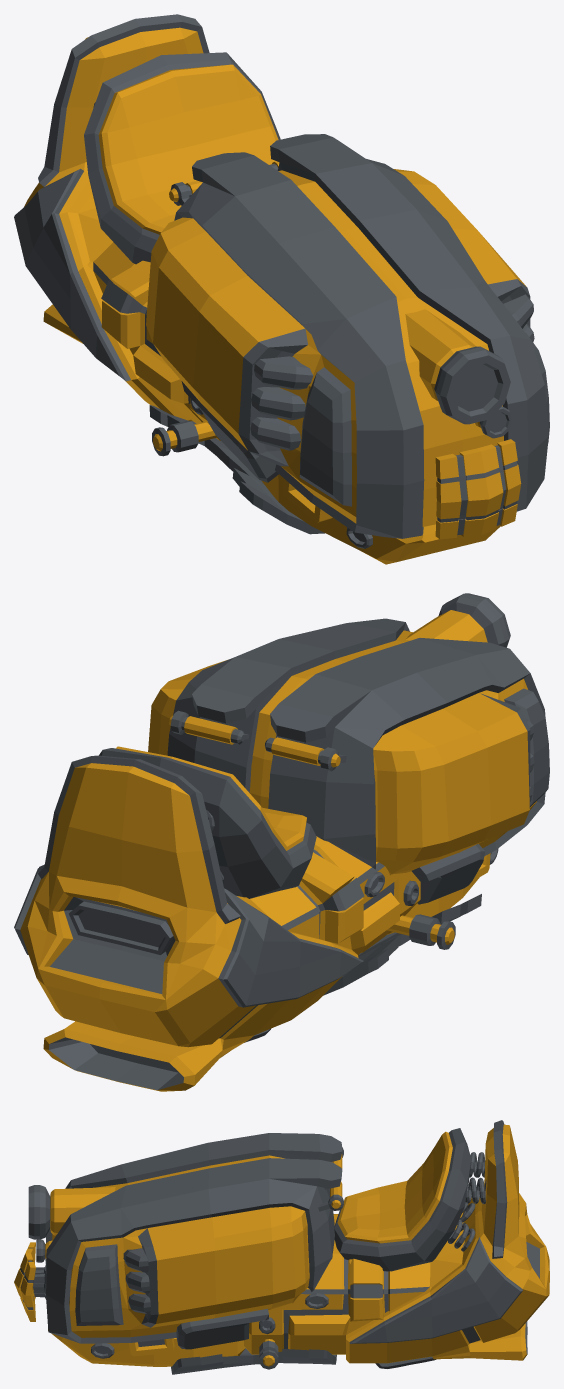
Rendered from Personal_Vehicle_01_Yellow.fbx.
The picture shows the model from 3 angles, top to bottom: view 1: azimuth 30°, elevation 25°; view 2: azimuth 150°, elevation 25°; view 3: azimuth 270°, elevation 25°; orthographic projection. The views are drawn at different scales.
Parts seen in each view (by area): view 1: Personal_Vehicle_01_Yellow; view 2: Personal_Vehicle_01_Yellow; view 3: Personal_Vehicle_01_Yellow.
Boxes of the visible parts, x1,y1,x2,y2 form: Personal_Vehicle_01_Yellow: [14, 14, 549, 564]; Personal_Vehicle_01_Yellow: [14, 593, 549, 1091]; Personal_Vehicle_01_Yellow: [14, 1120, 549, 1374].
Size of the model in its own units: 141 by 148 by 319.
Materials: 2 (2 with a texture image).
